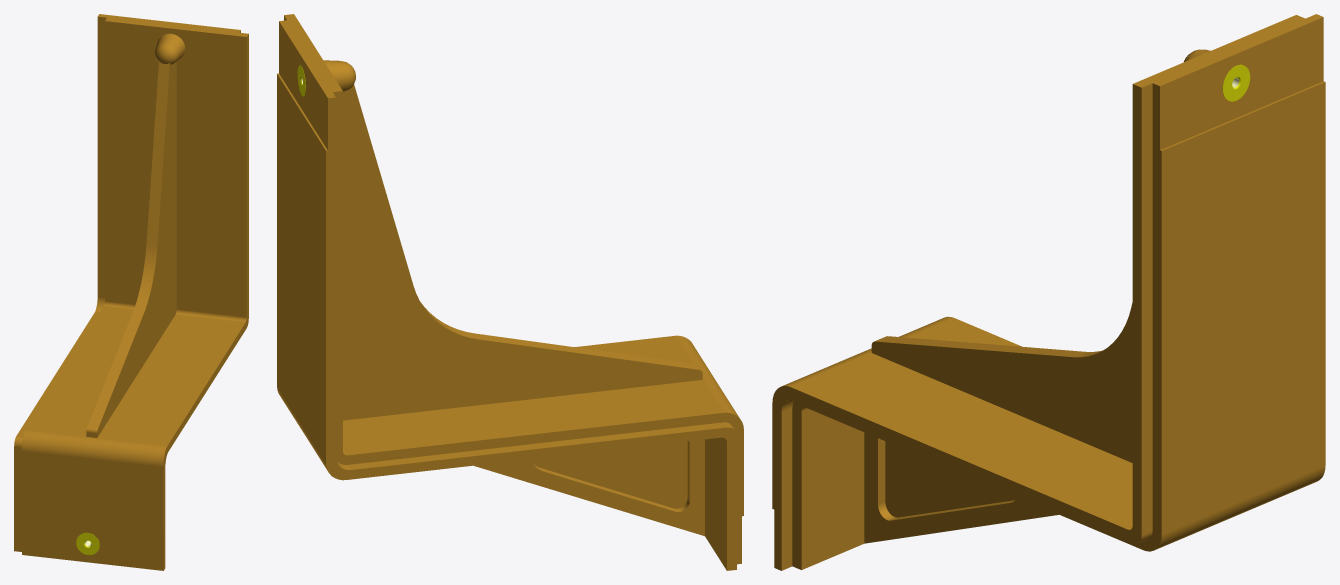
Rendered from 04.22_izoliruyushchaya-distantsionnaya-prostavka-idp-35-583x540.glb.
3 views of the same model, side by side, from view 1: azimuth 30°, elevation 25°; view 2: azimuth 150°, elevation 25°; view 3: azimuth 270°, elevation 25° (orthographic). The views are drawn at different scales.
Parts seen in each view (by area): view 1: 04.22_izoliruyushchaya-distantsionnaya-prostavka-idp-35-583x; view 2: 04.22_izoliruyushchaya-distantsionnaya-prostavka-idp-35-583x; view 3: 04.22_izoliruyushchaya-distantsionnaya-prostavka-idp-35-583x.
Part boxes in pixels (x1=…): 04.22_izoliruyushchaya-distantsionnaya-prostavka-idp-35-583x: x1=14, y1=14, x2=248, y2=570; 04.22_izoliruyushchaya-distantsionnaya-prostavka-idp-35-583x: x1=277, y1=14, x2=743, y2=570; 04.22_izoliruyushchaya-distantsionnaya-prostavka-idp-35-583x: x1=772, y1=14, x2=1325, y2=570.
Size of the model in its own units: 416 by 545 by 430.
